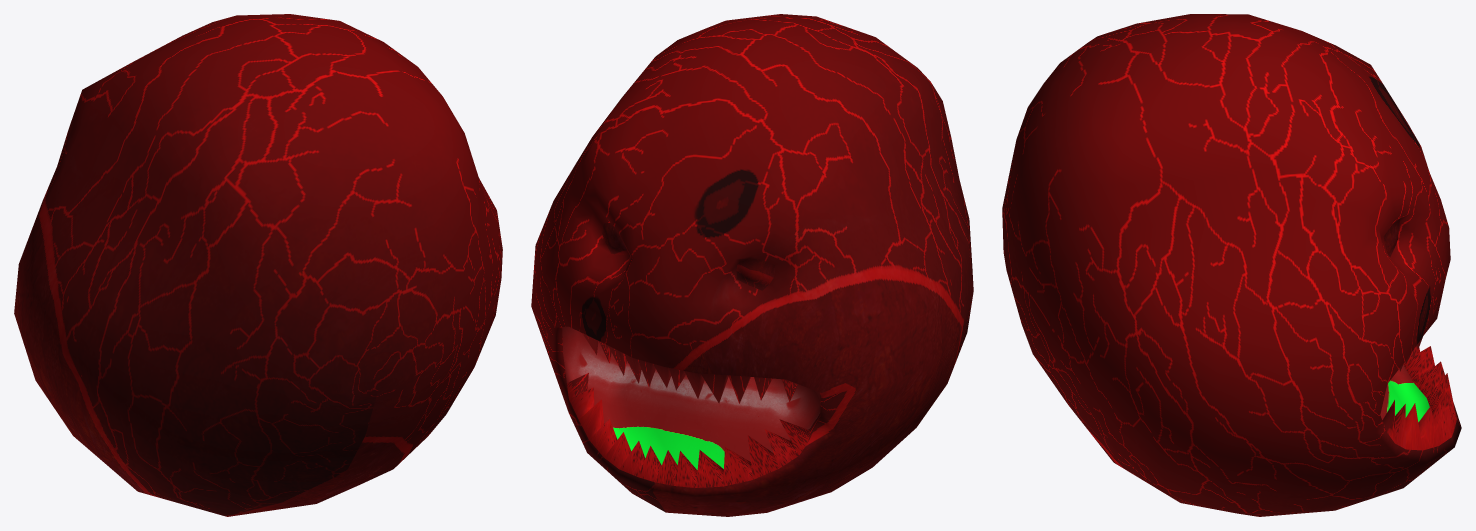
The model's file is FlyGuy.fbx.
The picture shows the model from 3 angles, left to right: view 1: azimuth 30°, elevation 25°; view 2: azimuth 150°, elevation 25°; view 3: azimuth 270°, elevation 25°; orthographic projection. The views are drawn at different scales.
Parts seen in each view (by area): view 1: FlyGuy; view 2: FlyGuy; view 3: FlyGuy.
Part boxes in pixels (x1,y1,x2,y2): FlyGuy: (14, 14, 502, 516); FlyGuy: (531, 14, 973, 516); FlyGuy: (1002, 14, 1461, 516).
Size of what is drawn, in the model's own units: 1.57 by 1.69 by 1.51.
